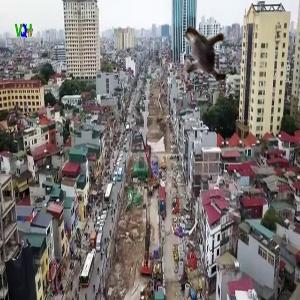drone: (148, 7, 251, 110)
